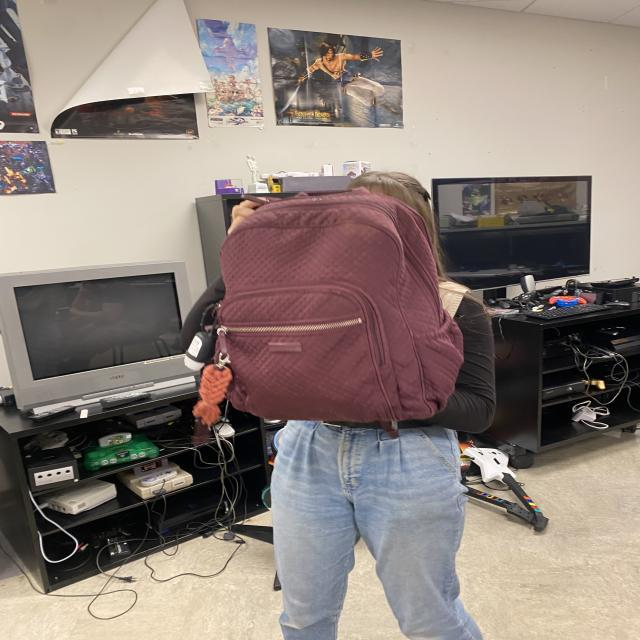Backpacks: (212, 190, 462, 434)
